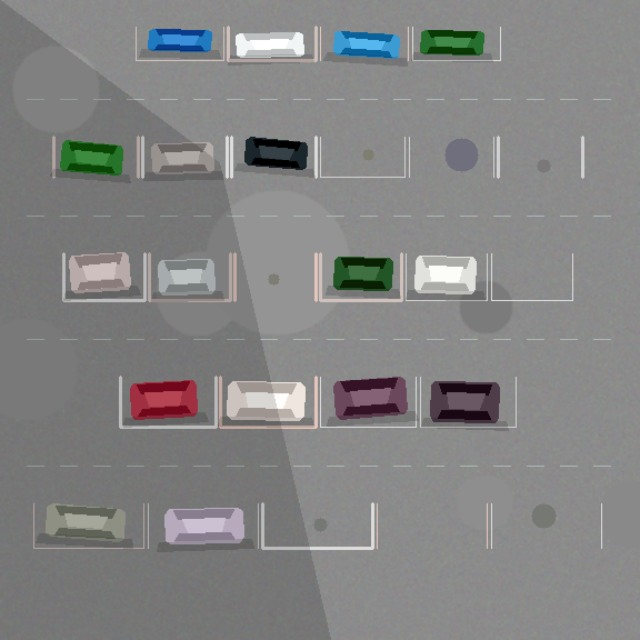space-empty: (262, 503, 372, 548), (377, 503, 487, 548), (491, 503, 601, 548), (234, 253, 316, 300), (491, 253, 572, 300), (320, 137, 404, 177), (409, 137, 493, 177), (498, 137, 582, 177)
space-occupied: (33, 503, 143, 548), (148, 503, 258, 548), (120, 377, 216, 427), (220, 377, 316, 427), (320, 377, 416, 427), (420, 377, 516, 427), (63, 253, 144, 300), (149, 253, 230, 300), (320, 253, 401, 300), (406, 253, 487, 300), (53, 137, 138, 177), (142, 137, 227, 177), (231, 137, 316, 177), (228, 27, 316, 60), (320, 27, 408, 60), (412, 27, 500, 60), (136, 27, 223, 60)
